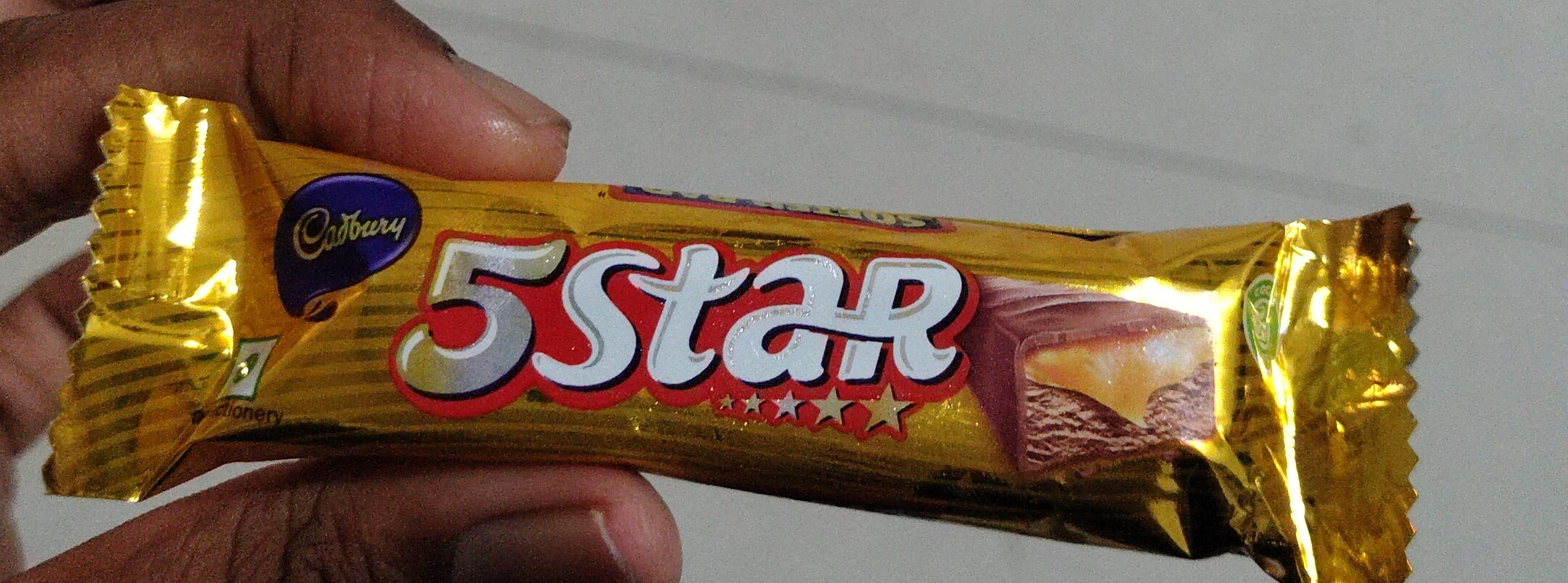5 Star Chocolate Bar: (141, 52, 1427, 531)
